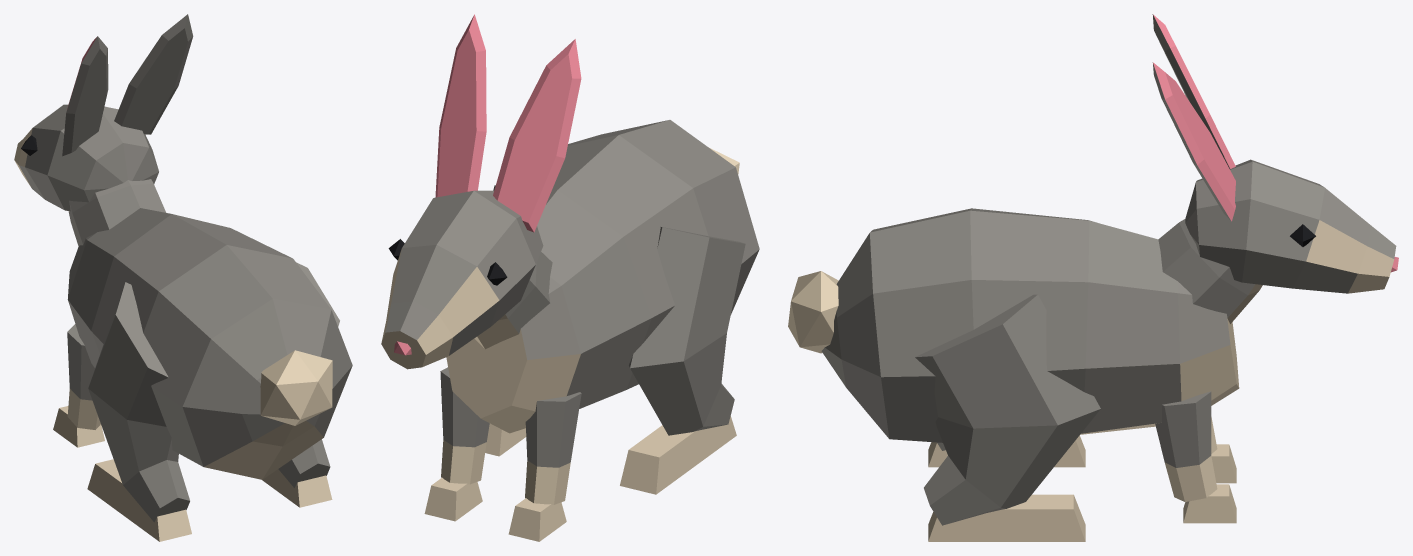
The model's file is rabbit.glb.
The picture shows the model from 3 angles, left to right: view 1: azimuth 30°, elevation 25°; view 2: azimuth 150°, elevation 25°; view 3: azimuth 270°, elevation 25°; orthographic projection. The views are drawn at different scales.
Parts seen in each view (by area): view 1: rabbit__body, rabbit__head, rabbit__leg_rl, rabbit__tail, rabbit__leg_fl, rabbit__leg_rr; view 2: rabbit__body, rabbit__head, rabbit__leg_rl, rabbit__leg_fl, rabbit__leg_fr, rabbit__leg_rr; view 3: rabbit__body, rabbit__leg_rr, rabbit__head, rabbit__leg_fr, rabbit__tail, rabbit__leg_rl, rabbit__leg_fl.
Part boxes in pixels (x1=…): rabbit__body: x1=67, y1=208, x2=352, y2=479; rabbit__head: x1=14, y1=14, x2=193, y2=245; rabbit__leg_rl: x1=87, y1=282, x2=191, y2=541; rabbit__tail: x1=260, y1=350, x2=332, y2=425; rabbit__leg_fl: x1=53, y1=324, x2=104, y2=447; rabbit__leg_rr: x1=262, y1=262, x2=339, y2=507; rabbit__body: x1=446, y1=120, x2=759, y2=433; rabbit__head: x1=381, y1=14, x2=581, y2=369; rabbit__leg_rl: x1=620, y1=227, x2=745, y2=494; rabbit__leg_fl: x1=508, y1=392, x2=581, y2=541; rabbit__leg_fr: x1=424, y1=367, x2=489, y2=521; rabbit__leg_rr: x1=485, y1=185, x2=526, y2=456; rabbit__body: x1=821, y1=208, x2=1239, y2=442; rabbit__leg_rr: x1=915, y1=294, x2=1100, y2=541; rabbit__head: x1=1152, y1=14, x2=1398, y2=323; rabbit__leg_fr: x1=1155, y1=391, x2=1236, y2=523; rabbit__tail: x1=788, y1=271, x2=838, y2=353; rabbit__leg_rl: x1=928, y1=435, x2=1085, y2=467; rabbit__leg_fl: x1=1211, y1=417, x2=1236, y2=483.
Bounding box in the file's own units: 0.157 × 0.321 × 0.388.
1 material, 1 textured.
